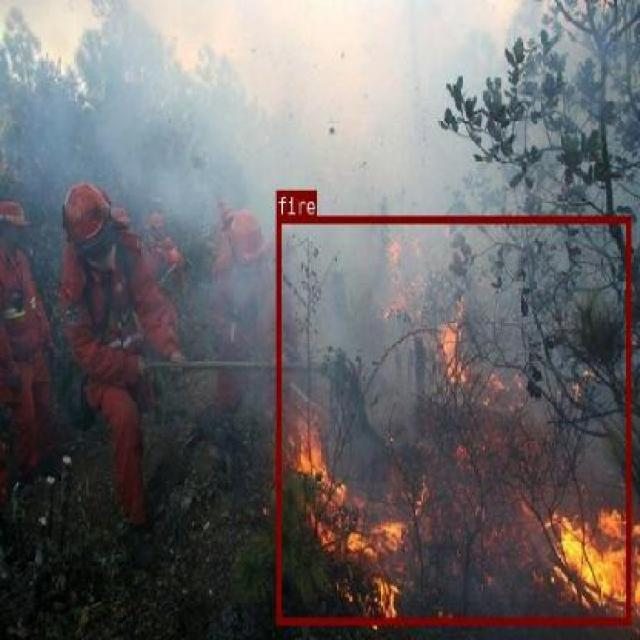fire: (274, 216, 630, 624)
